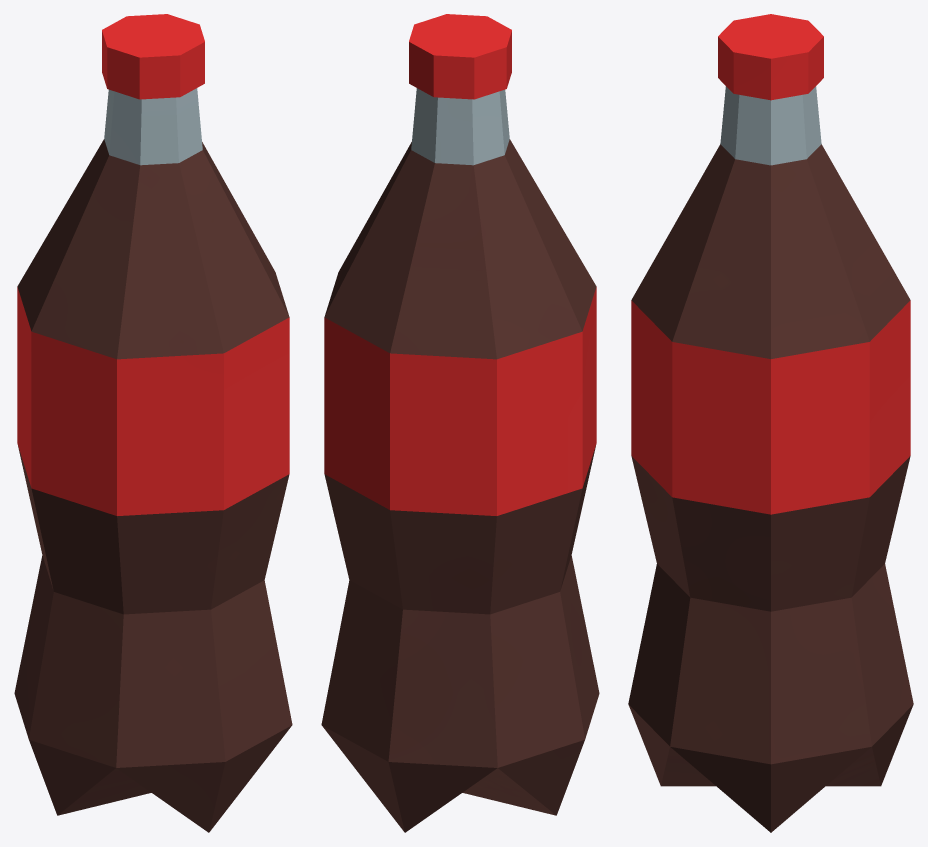
Rendered from cora.gltf.
3 renders of one model, left to right at view 1: azimuth 30°, elevation 25°; view 2: azimuth 150°, elevation 25°; view 3: azimuth 270°, elevation 25°, orthographic.
Parts seen in each view (by area): view 1: drink_002; view 2: drink_002; view 3: drink_002.
Part boxes in pixels (x1,y1,x2,y2): drink_002: [14, 14, 292, 832]; drink_002: [321, 14, 599, 832]; drink_002: [628, 14, 913, 832].
Bounding box in the file's own units: 0.8869 × 2.57 × 0.8869.
1 material, 1 textured.
